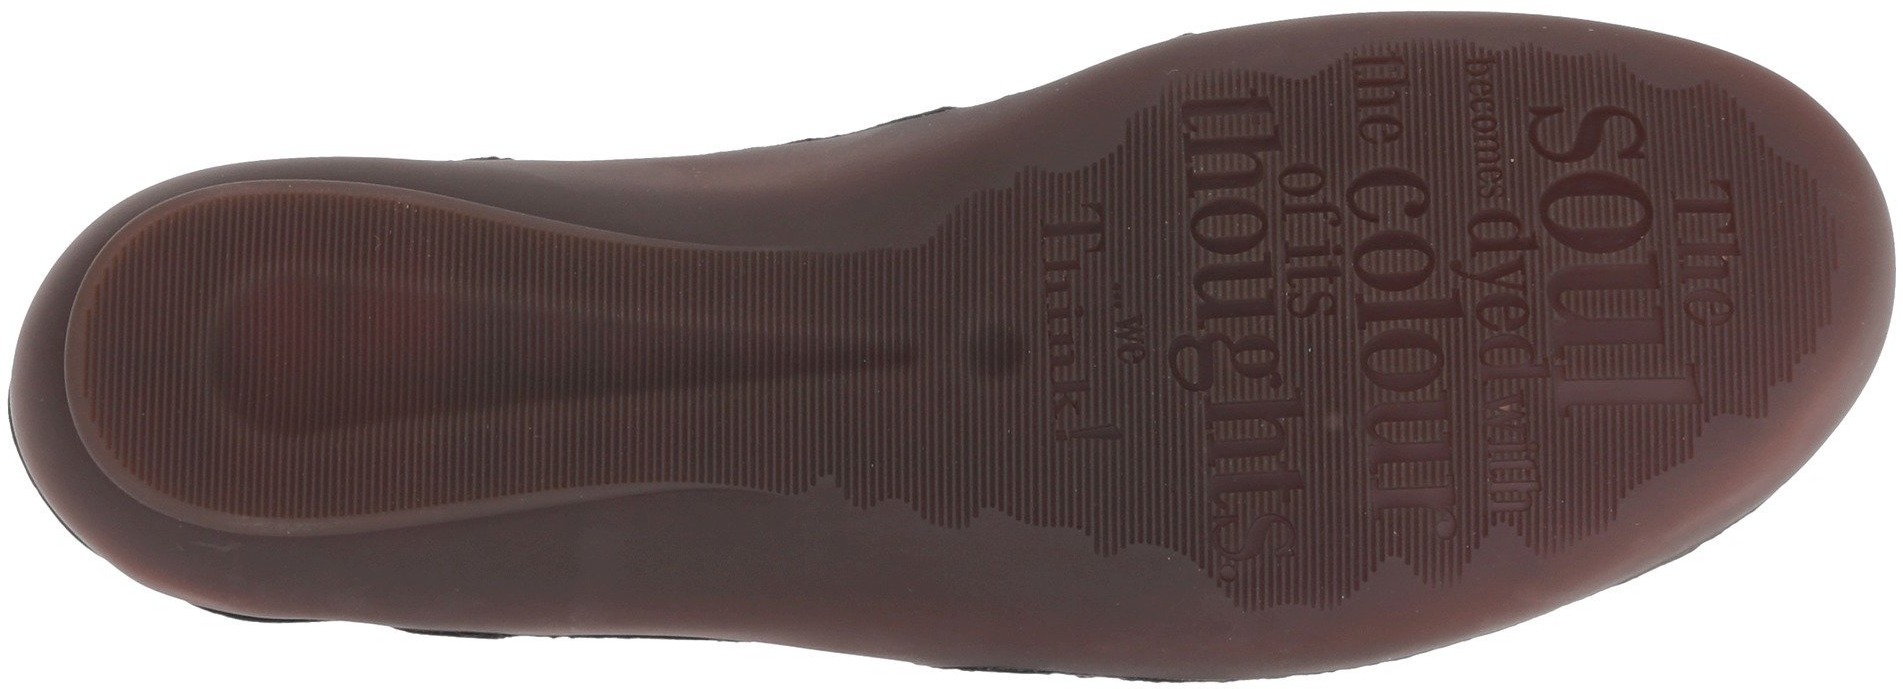line: (1336, 50, 1528, 201), (1353, 193, 1519, 363), (1521, 220, 1689, 383), (1367, 382, 1528, 509), (1182, 93, 1327, 229), (1194, 237, 1335, 372), (1176, 377, 1299, 513), (1033, 207, 1151, 338), (1524, 110, 1636, 220), (1044, 343, 1151, 443)
other: (346, 232, 585, 473), (108, 256, 340, 459), (803, 271, 1015, 460), (603, 252, 788, 452)
text: (1336, 50, 1528, 201), (1353, 193, 1519, 363), (1521, 220, 1689, 383), (1367, 382, 1528, 509), (1182, 93, 1327, 229), (1194, 237, 1335, 372), (1176, 377, 1299, 513), (1033, 207, 1151, 338), (1524, 110, 1636, 220), (1044, 343, 1151, 443)
